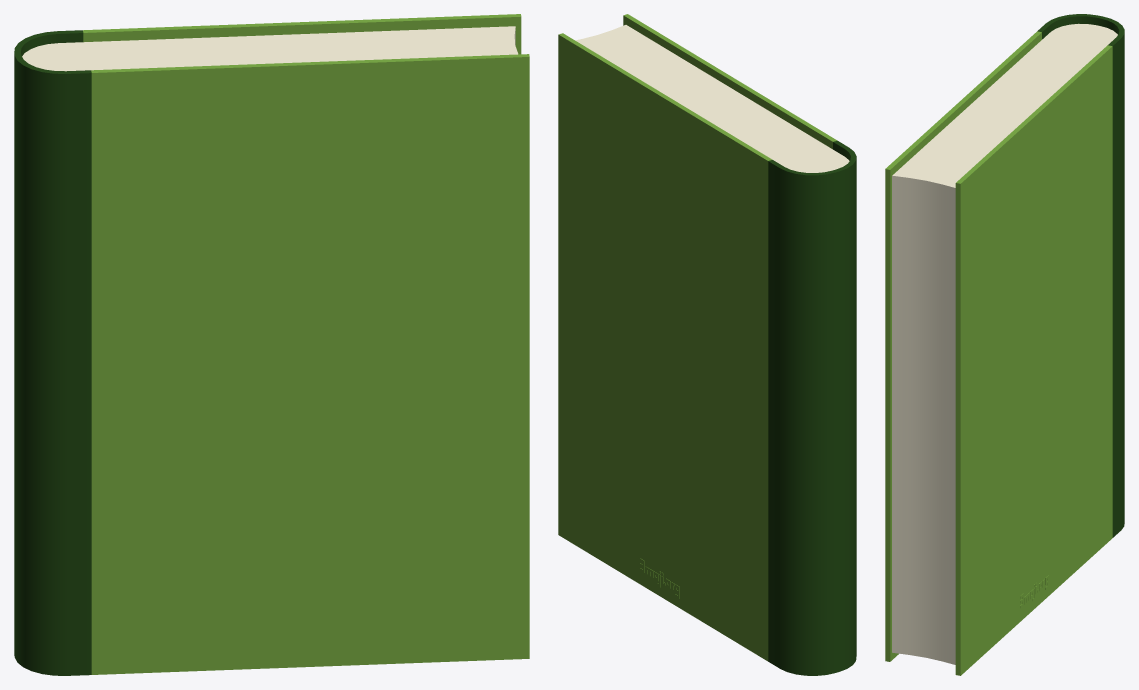
The model's file is green_book.fbx.
3 views of the same model, side by side, from view 1: azimuth 30°, elevation 25°; view 2: azimuth 150°, elevation 25°; view 3: azimuth 270°, elevation 25° (orthographic). The views are drawn at different scales.
Parts seen in each view (by area): view 1: Cube.947; view 2: Cube.947; view 3: Cube.947.
Boxes of the visible parts, x1=… form: Cube.947: x1=14, y1=14, x2=529, y2=675; Cube.947: x1=558, y1=14, x2=856, y2=675; Cube.947: x1=885, y1=14, x2=1124, y2=675.
Bounding box in the file's own units: 155 × 210 × 92.63.
1 material, 1 textured.
